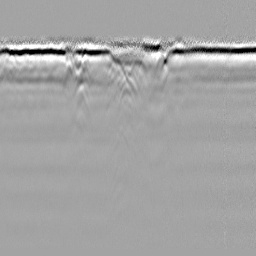cavity: (116, 77, 138, 116)
